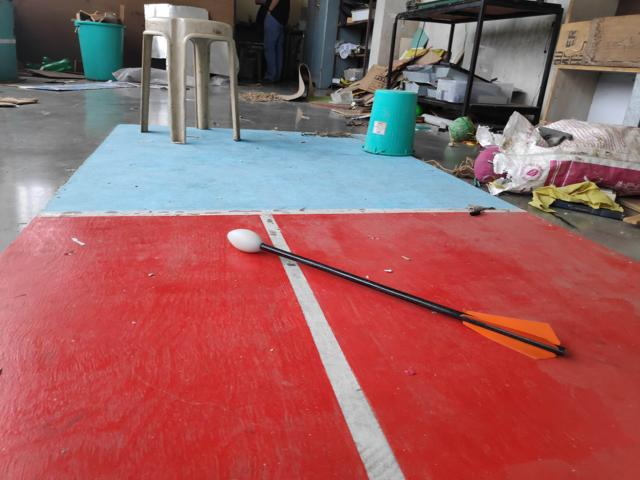Head: (224, 226, 269, 255)
Tail: (457, 309, 569, 361)
